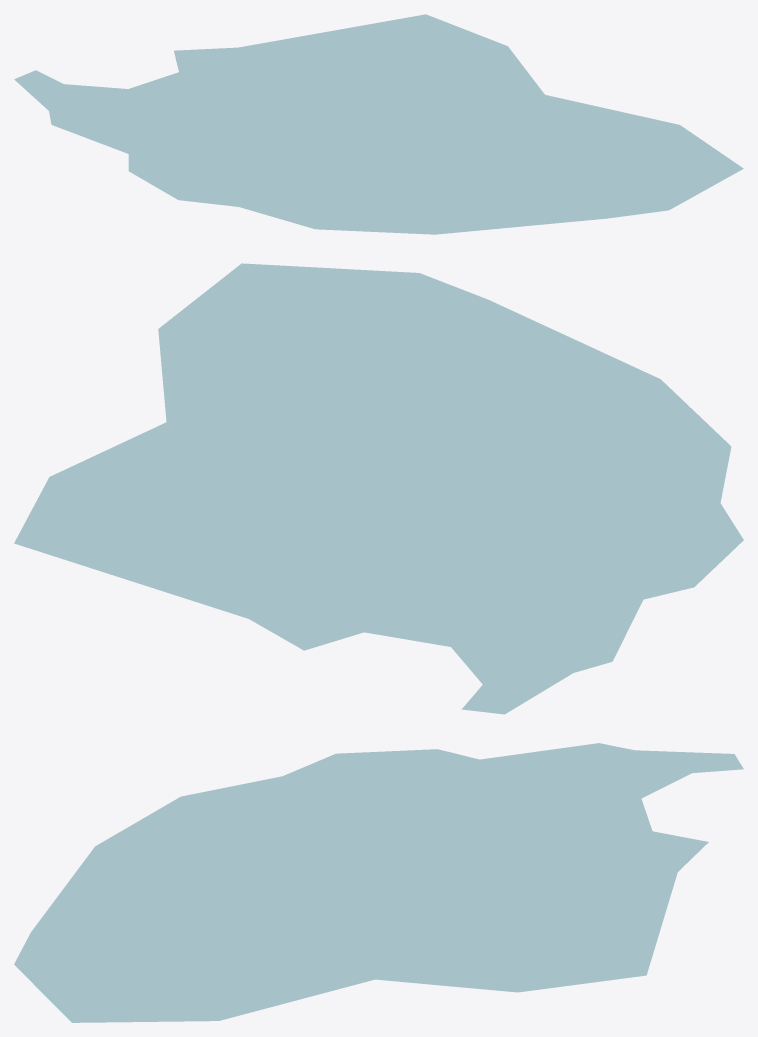
Rendered from lakeclaire3.glb.
The picture shows the model from 3 angles, top to bottom: view 1: azimuth 30°, elevation 25°; view 2: azimuth 150°, elevation 25°; view 3: azimuth 270°, elevation 25°; orthographic projection. The views are drawn at different scales.
Visible parts, largest first — view 1: Lake Claire; view 2: Lake Claire; view 3: Lake Claire.
Boxes of the visible parts, x1,y1,x2,y2 form: Lake Claire: [14, 14, 743, 234]; Lake Claire: [14, 263, 743, 714]; Lake Claire: [14, 743, 743, 1022].
Size of the model in its own units: 0.2173 by 0 by 0.2395.
